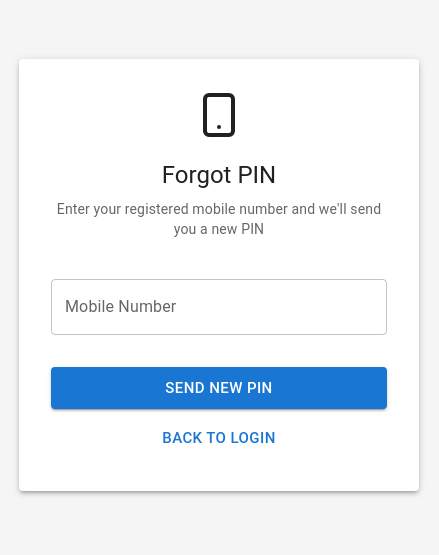
Test case: Authentication Pages › ForgotPin › shows success message after submission
Step 1. Type "1234567890" into the field labelled "Mobile Number" → coordinates (219, 307), box x1=51 y1=279 x2=387 y2=335
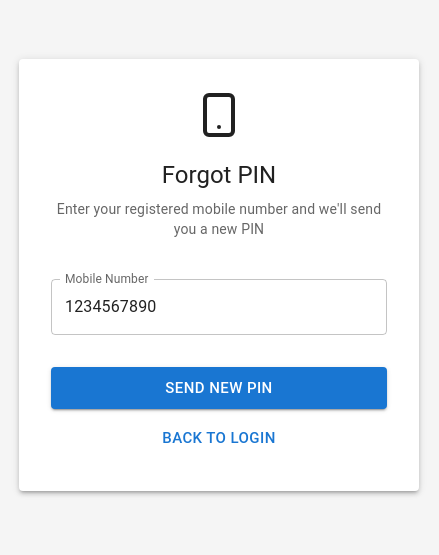
Step 2. Click the button "Send New PIN" → coordinates (219, 388), box x1=51 y1=367 x2=387 y2=409
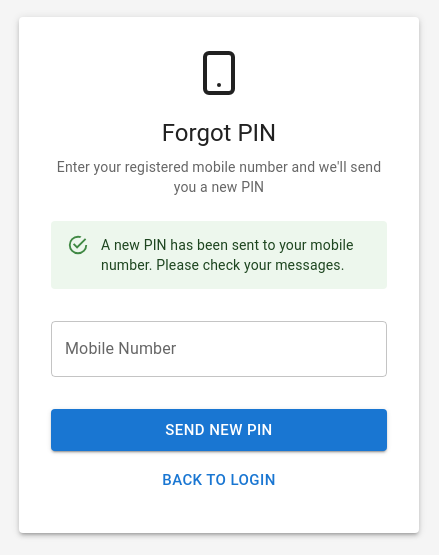
Result: the text "A new PIN has been sent to your mobile number" is shown at x1=101 y1=237 x2=354 y2=273
